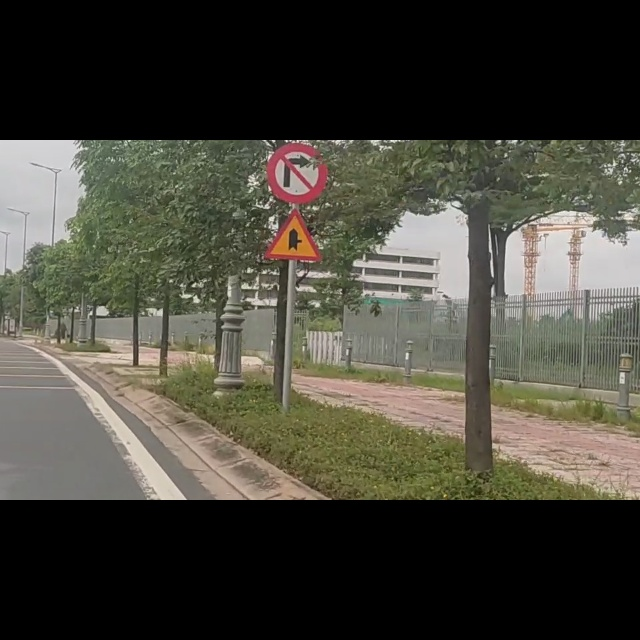bien_cam: (265, 5, 329, 119), (264, 117, 325, 218)
